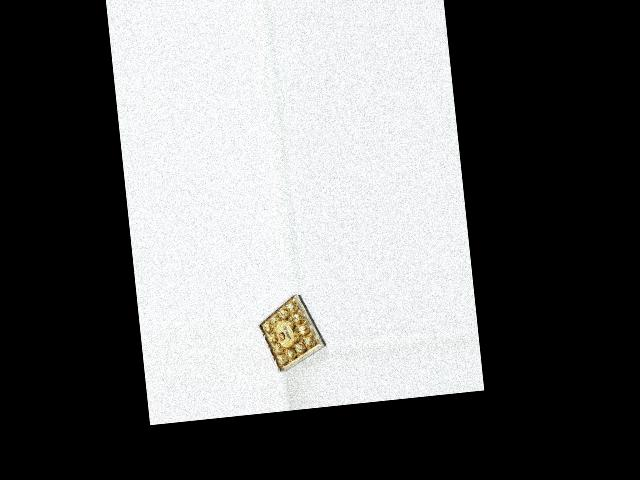chocolate: (254, 290, 330, 375)
